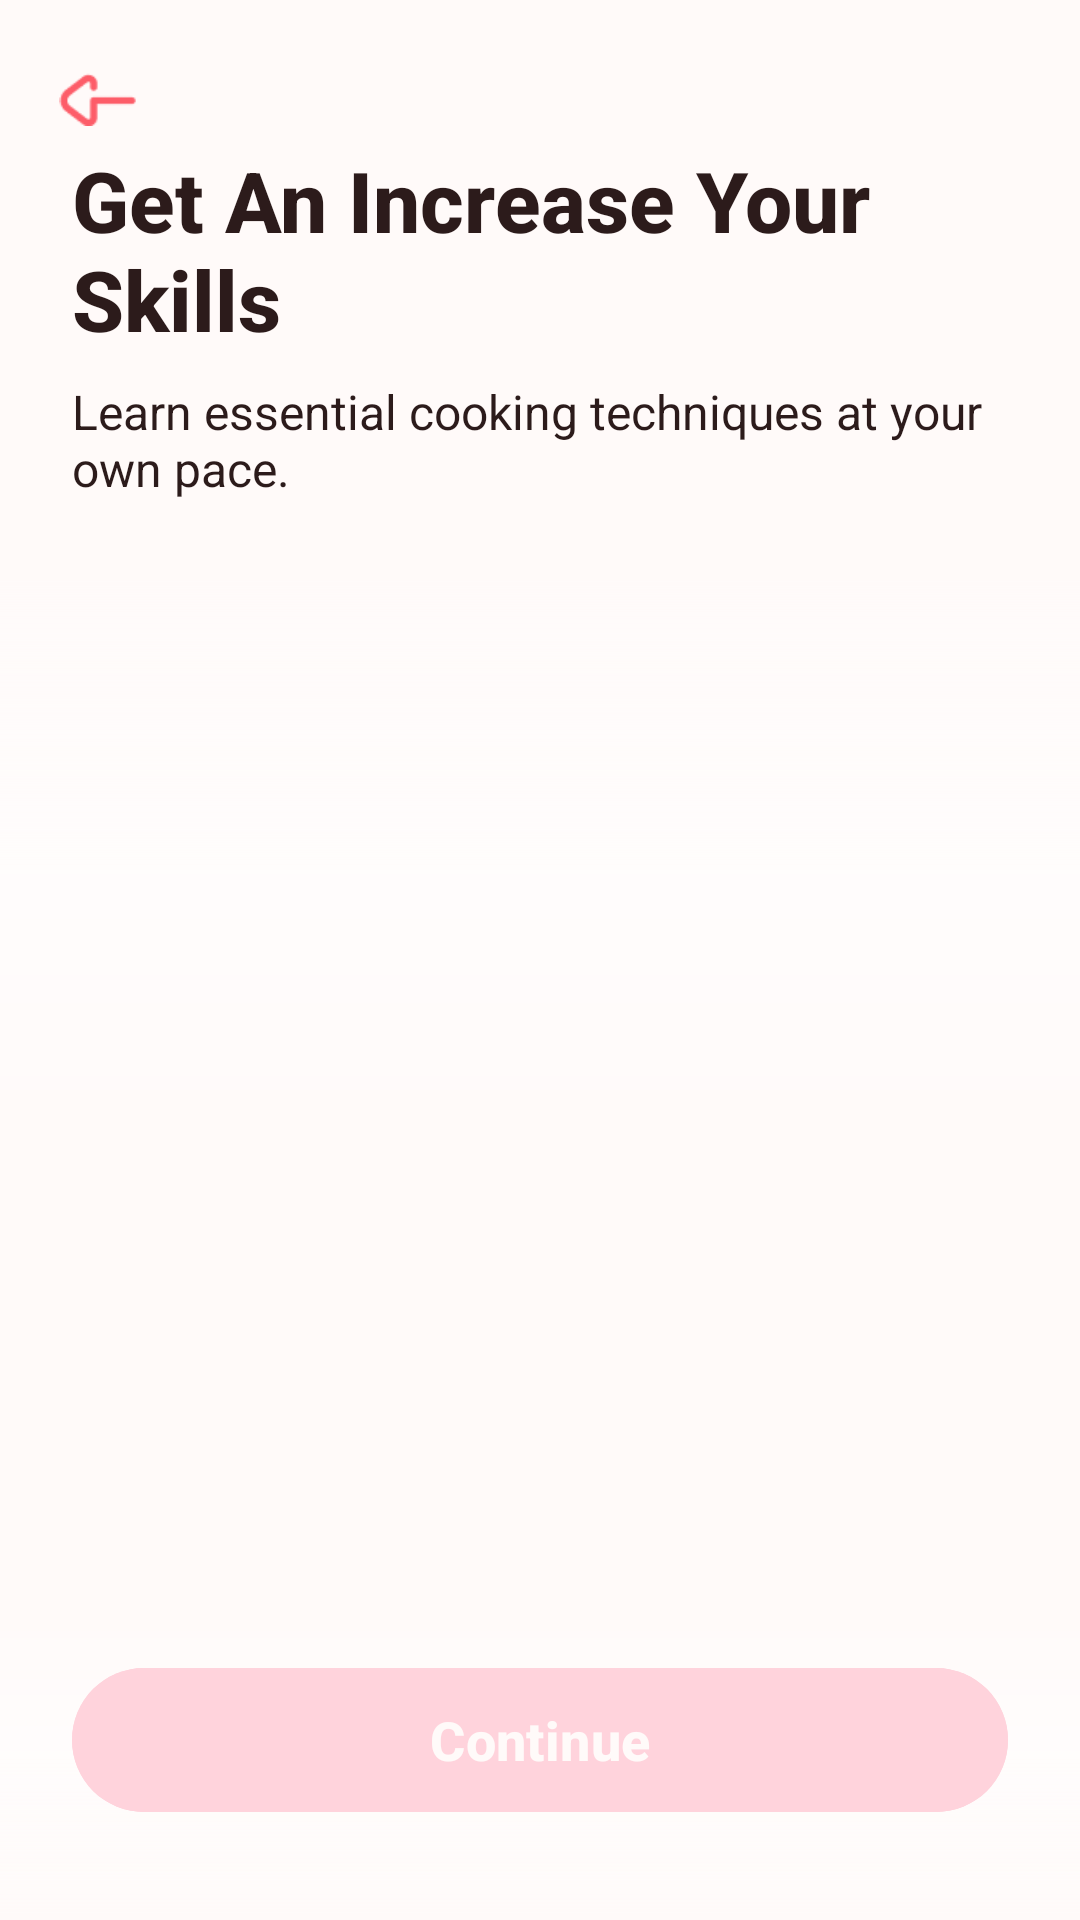

Where to tap for icons on this 1080*1920 app screen, as (x,y):
back arrow: (97,100)
